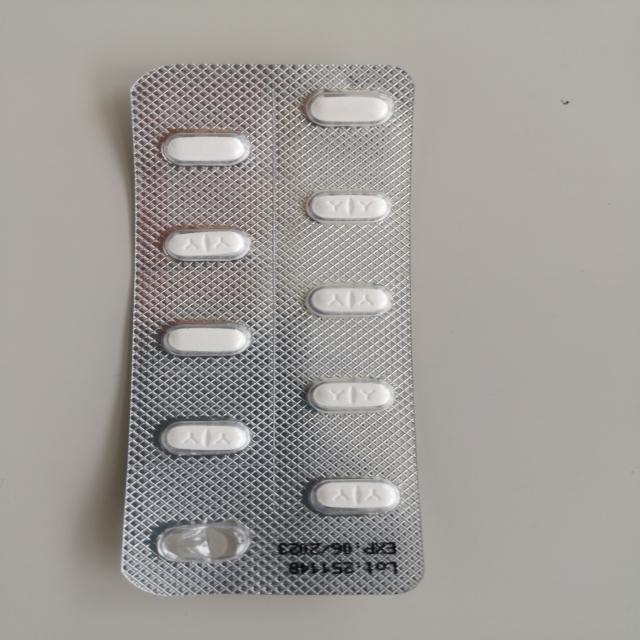Empty: (146, 519, 256, 564)
Pill: (292, 82, 404, 136), (148, 123, 260, 174), (299, 470, 408, 520), (294, 371, 402, 419), (294, 182, 400, 229), (153, 415, 257, 460), (298, 277, 399, 321), (156, 224, 256, 265), (155, 318, 256, 358)
